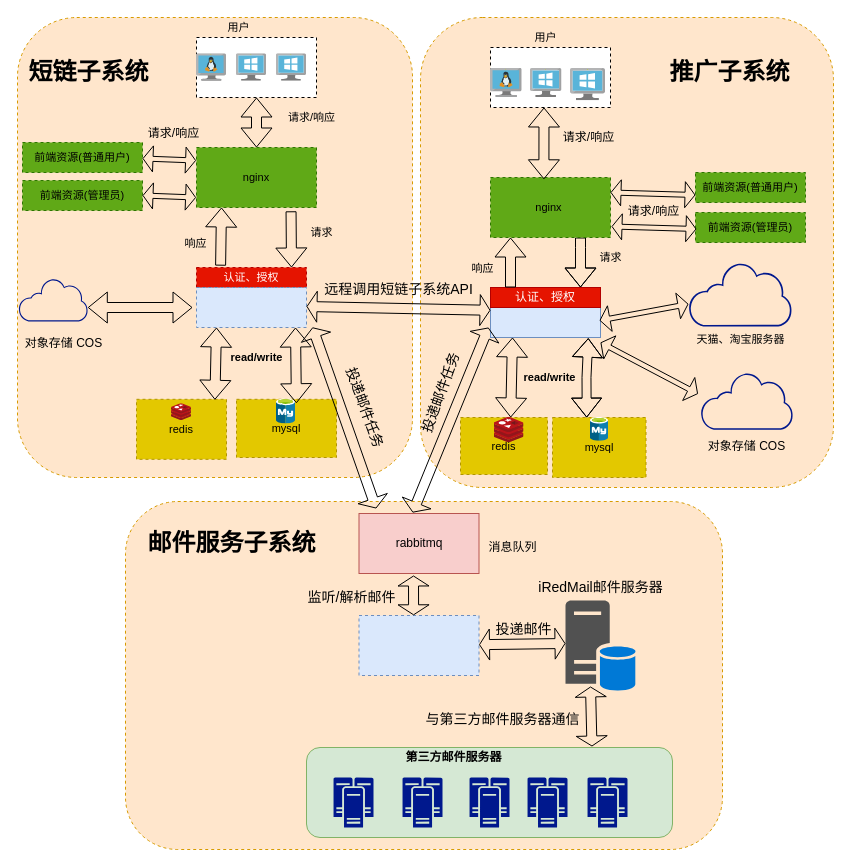
This 851x867 diagram has some shape labels left out. The shapes that lost their labels are listed below. From the top down, each one's centre as x and y in pixels, then its label:
At (251,307): "短链接系统后台API".
At (545,322): "推广系统后台API".
At (418,645): "邮件消费者".
